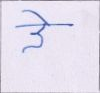e_matra: (23, 9, 51, 23)
